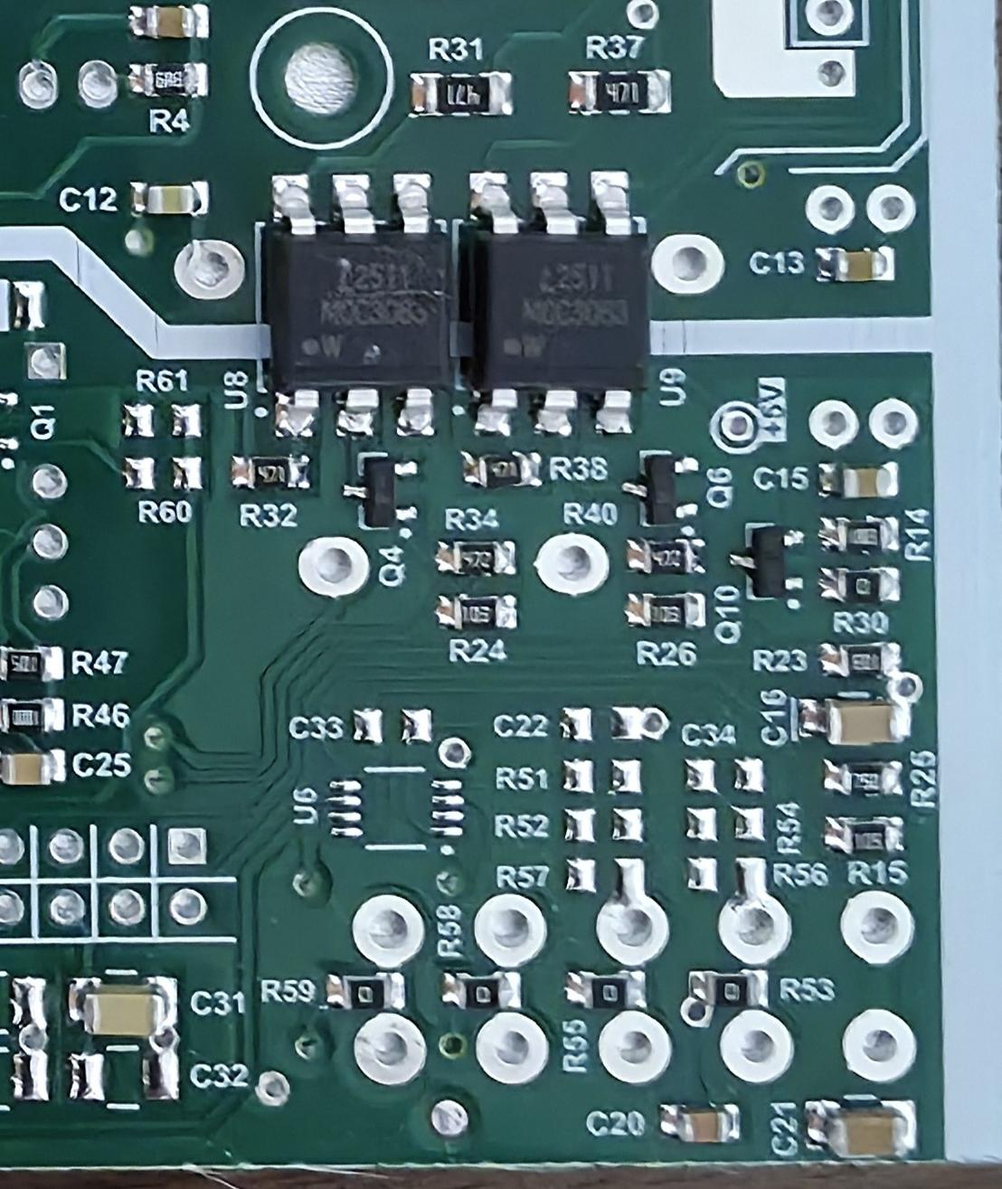C+: (59, 963, 182, 1039), (804, 1098, 926, 1161), (797, 693, 913, 748), (804, 237, 900, 286), (656, 1101, 743, 1147), (122, 177, 220, 216), (815, 462, 903, 503), (124, 5, 221, 42)
C-: (59, 1041, 187, 1114)
R+: (405, 67, 514, 120), (563, 68, 680, 117), (618, 584, 706, 634), (623, 534, 713, 582), (431, 534, 519, 582), (809, 514, 900, 560), (425, 592, 527, 633), (561, 966, 656, 1010), (459, 449, 553, 493), (812, 758, 903, 802), (812, 564, 908, 605), (317, 971, 412, 1012), (818, 636, 903, 680), (823, 812, 906, 857), (683, 965, 769, 1008), (439, 971, 522, 1013), (125, 60, 211, 99), (228, 454, 312, 491)
R/CFaltante: (672, 751, 771, 797), (345, 701, 436, 751), (680, 854, 776, 898), (558, 854, 647, 901), (555, 753, 643, 799), (551, 704, 647, 745), (673, 807, 765, 849), (556, 807, 651, 846)
UFaltante: (320, 766, 470, 859), (116, 451, 211, 494), (117, 400, 205, 442)
